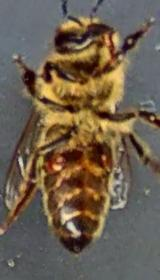varroa_mite: (34, 138, 78, 183)
